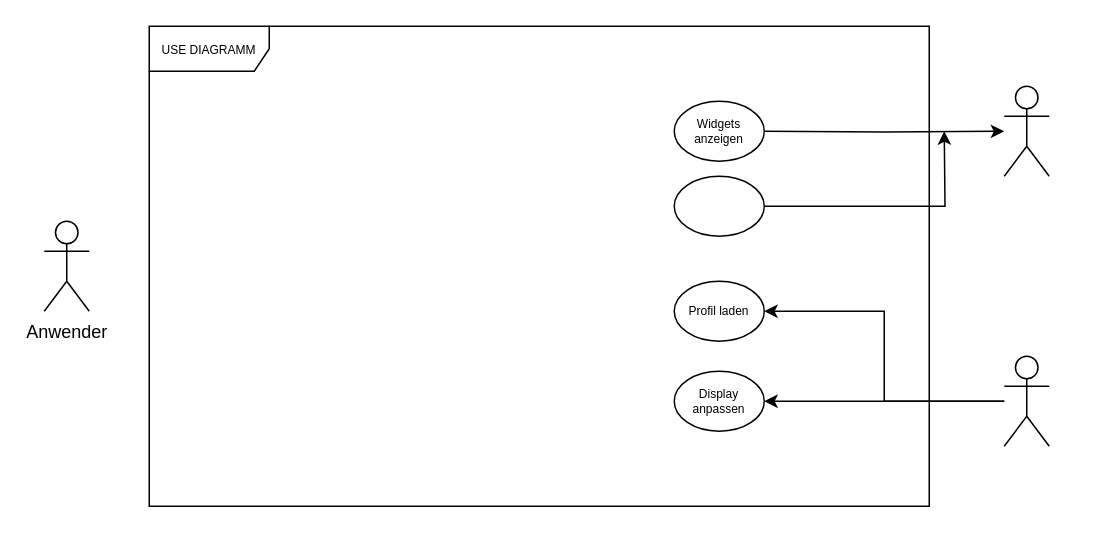
Some shapes in this 1103 by 533 pixel diagram are drawn without their labels. The shapes that lost their labels are listed below. From the top down, each one's box as (x1, y1, x2, y2) in pixels, then its label:
(1003, 85, 1049, 176): Smart Mirror
(673, 175, 764, 236): Profil anzeigen
(1003, 355, 1049, 446): App
